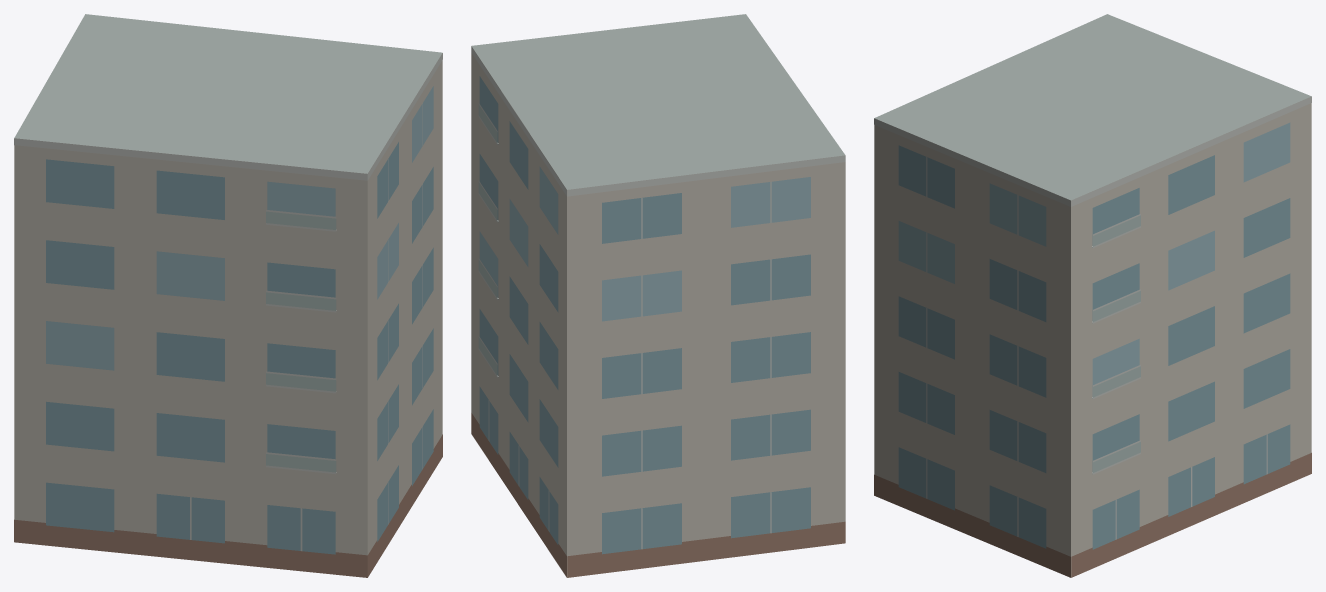
File: survey-upis-32886574.glb
3 views of the same model, side by side, from view 1: azimuth 30°, elevation 25°; view 2: azimuth 150°, elevation 25°; view 3: azimuth 270°, elevation 25° (orthographic). The views are drawn at different scales.
Visible parts, largest first — view 1: survey-upis-32886574.tmp; view 2: survey-upis-32886574.tmp; view 3: survey-upis-32886574.tmp.
Part boxes in pixels (x1,y1,x2,y2): survey-upis-32886574.tmp: (14,14,442,577); survey-upis-32886574.tmp: (471,14,845,577); survey-upis-32886574.tmp: (874,14,1311,577).
Bounding box in the file's own units: 15 × 14.15 × 14.88.
